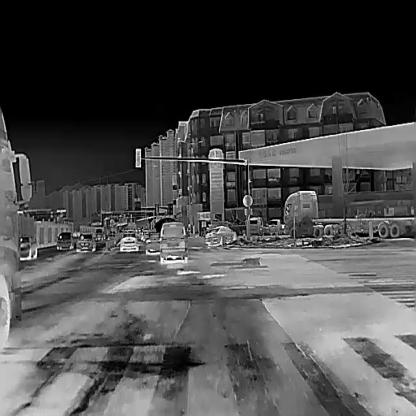car: (158, 219, 190, 262), (203, 223, 237, 247), (18, 232, 39, 261), (119, 230, 140, 252), (76, 230, 96, 253), (145, 231, 161, 256), (55, 230, 74, 249), (92, 231, 105, 243)
truck: (0, 102, 34, 354), (281, 187, 415, 239), (244, 216, 272, 237), (267, 217, 287, 236)
